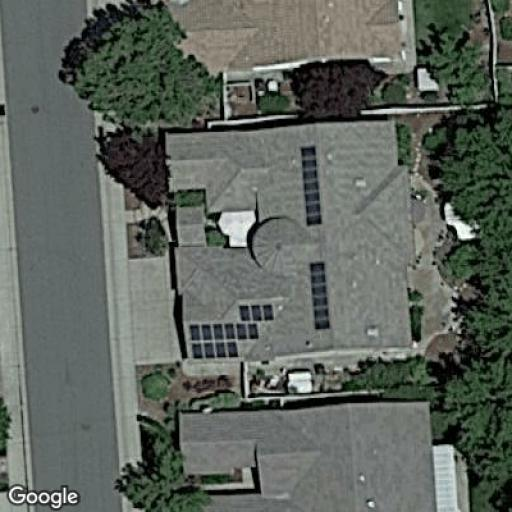solar-panel: (187, 301, 277, 361), (298, 144, 324, 229), (307, 260, 333, 333)
